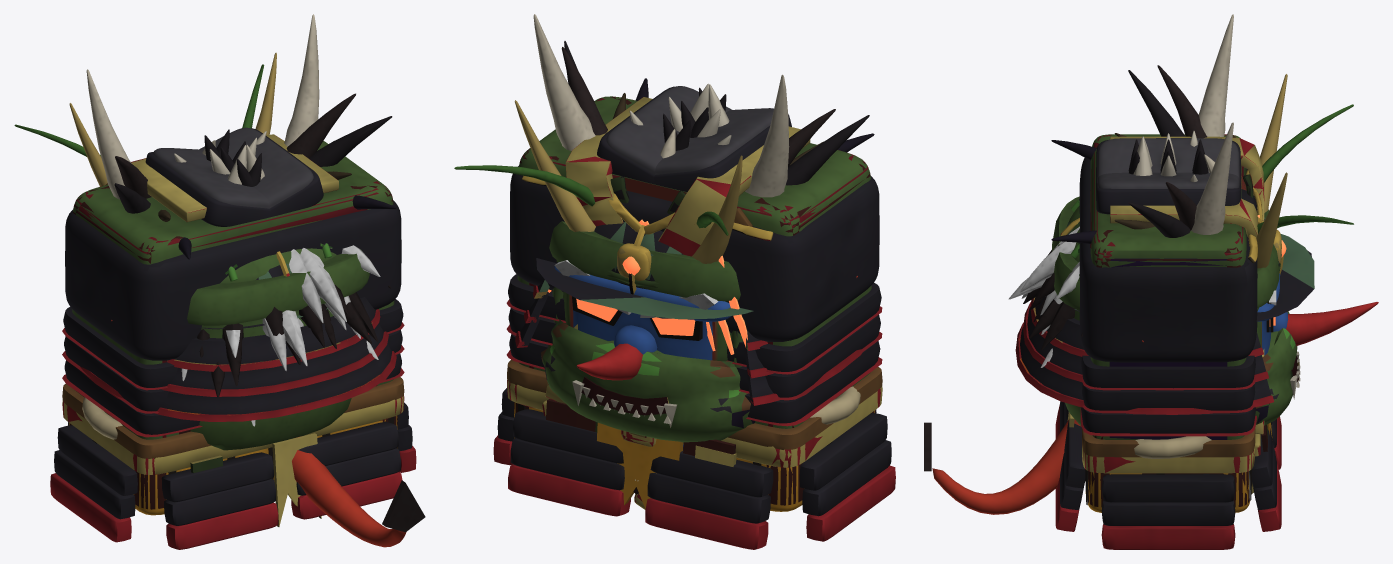
Rendered from NinjaSim_HeroDemons.fbx.
3 renders of one model, left to right at view 1: azimuth 30°, elevation 25°; view 2: azimuth 150°, elevation 25°; view 3: azimuth 270°, elevation 25°, orthographic. The views are drawn at different scales.
Parts seen in each view (by area): view 1: HeroDemon_samurai_black_Torso, HeroDemon_samurai_black_Head, HeroDemon_bamboo_Torso, HeroDemon_bamboo_Head, HeroDemon_imp_Torso, HeroDemon_oni_blue_Head, HeroDemon_oni_red_Head, HeroDemon_bamboo_RightArm, HeroDemon_bamboo_LeftArm, HeroDemon_samurai_black_LeftArm, HeroDemon_imp_Head, HeroDemon_samurai_jade_Head (+4 smaller); view 2: HeroDemon_samurai_black_Torso, HeroDemon_bamboo_Head, HeroDemon_bamboo_Torso, HeroDemon_oni_blue_Head, HeroDemon_samurai_black_Head, HeroDemon_imp_Torso, HeroDemon_samurai_jade_Head, HeroDemon_oni_blue_Torso, HeroDemon_bamboo_RightArm, HeroDemon_bamboo_LeftArm, HeroDemon_samurai_black_LeftArm, HeroDemon_mantis_Head (+7 smaller); view 3: HeroDemon_samurai_black_Torso, HeroDemon_bamboo_Torso, HeroDemon_samurai_black_Head, HeroDemon_imp_Torso, HeroDemon_oni_blue_Head, HeroDemon_bamboo_Head, HeroDemon_bamboo_LeftArm, HeroDemon_samurai_jade_Head, HeroDemon_samurai_black_RightArm, HeroDemon_oni_blue_Torso, HeroDemon_bamboo_RightArm, HeroDemon_imp_Head (+6 smaller).
Part boxes in pixels (bbox=[...]): HeroDemon_samurai_black_Torso: bbox=[50, 158, 416, 549]; HeroDemon_samurai_black_Head: bbox=[80, 116, 396, 421]; HeroDemon_bamboo_Torso: bbox=[62, 134, 403, 526]; HeroDemon_bamboo_Head: bbox=[158, 171, 369, 450]; HeroDemon_imp_Torso: bbox=[62, 183, 425, 547]; HeroDemon_oni_blue_Head: bbox=[86, 14, 380, 426]; HeroDemon_oni_red_Head: bbox=[102, 99, 391, 397]; HeroDemon_bamboo_RightArm: bbox=[199, 127, 313, 208]; HeroDemon_bamboo_LeftArm: bbox=[153, 145, 272, 208]; HeroDemon_samurai_black_LeftArm: bbox=[145, 135, 270, 226]; HeroDemon_imp_Head: bbox=[111, 93, 355, 321]; HeroDemon_samurai_jade_Head: bbox=[69, 52, 372, 365]; HeroDemon_samurai_black_Torso: bbox=[493, 96, 895, 549]; HeroDemon_bamboo_Head: bbox=[542, 93, 823, 442]; HeroDemon_bamboo_Torso: bbox=[507, 96, 882, 509]; HeroDemon_oni_blue_Head: bbox=[533, 14, 789, 360]; HeroDemon_samurai_black_Head: bbox=[515, 41, 869, 405]; HeroDemon_imp_Torso: bbox=[507, 96, 882, 505]; HeroDemon_samurai_jade_Head: bbox=[514, 100, 753, 350]; HeroDemon_oni_blue_Torso: bbox=[514, 386, 875, 511]; HeroDemon_bamboo_RightArm: bbox=[606, 84, 731, 174]; HeroDemon_bamboo_LeftArm: bbox=[651, 83, 773, 174]; HeroDemon_samurai_black_LeftArm: bbox=[654, 94, 791, 191]; HeroDemon_mantis_Head: bbox=[454, 165, 740, 397]; HeroDemon_samurai_black_Torso: bbox=[1055, 134, 1281, 549]; HeroDemon_bamboo_Torso: bbox=[1067, 134, 1267, 494]; HeroDemon_samurai_black_Head: bbox=[1015, 70, 1313, 414]; HeroDemon_imp_Torso: bbox=[924, 136, 1267, 514]; HeroDemon_oni_blue_Head: bbox=[1008, 14, 1288, 367]; HeroDemon_bamboo_Head: bbox=[1052, 133, 1300, 425]; HeroDemon_bamboo_LeftArm: bbox=[1097, 131, 1239, 179]; HeroDemon_samurai_jade_Head: bbox=[1033, 74, 1314, 342]; HeroDemon_samurai_black_RightArm: bbox=[1096, 151, 1240, 214]; HeroDemon_oni_blue_Torso: bbox=[1085, 422, 1272, 512]; HeroDemon_bamboo_RightArm: bbox=[1097, 136, 1239, 188]; HeroDemon_imp_Head: bbox=[1142, 65, 1271, 342].
Size of the model in its own units: 2.42 by 3.27 by 3.21.
28 materials, 14 textured.
